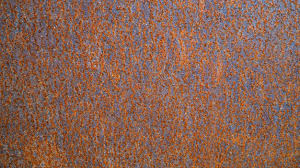rust: (2, 2, 299, 165)
